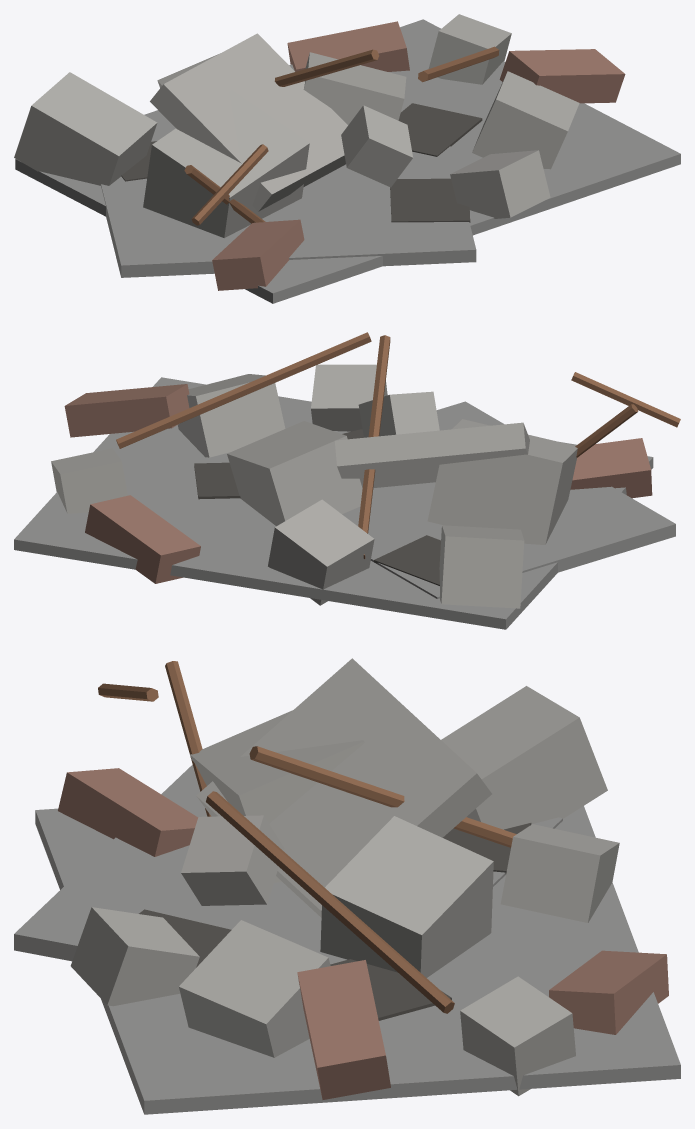
File: Dress_RubblePile.fbx
3 views of the same model, one above another, from view 1: azimuth 30°, elevation 25°; view 2: azimuth 150°, elevation 25°; view 3: azimuth 270°, elevation 25° (orthographic). The views are drawn at different scales.
Visible parts, largest first — view 1: Dress_RubblePile; view 2: Dress_RubblePile; view 3: Dress_RubblePile.
Boxes of the visible parts, box(x1,y1,x2,y2) form: Dress_RubblePile: box(14, 14, 680, 303); Dress_RubblePile: box(14, 332, 680, 629); Dress_RubblePile: box(14, 658, 680, 1114).
Bounding box in the file's own units: 120 × 34.77 × 95.75.
